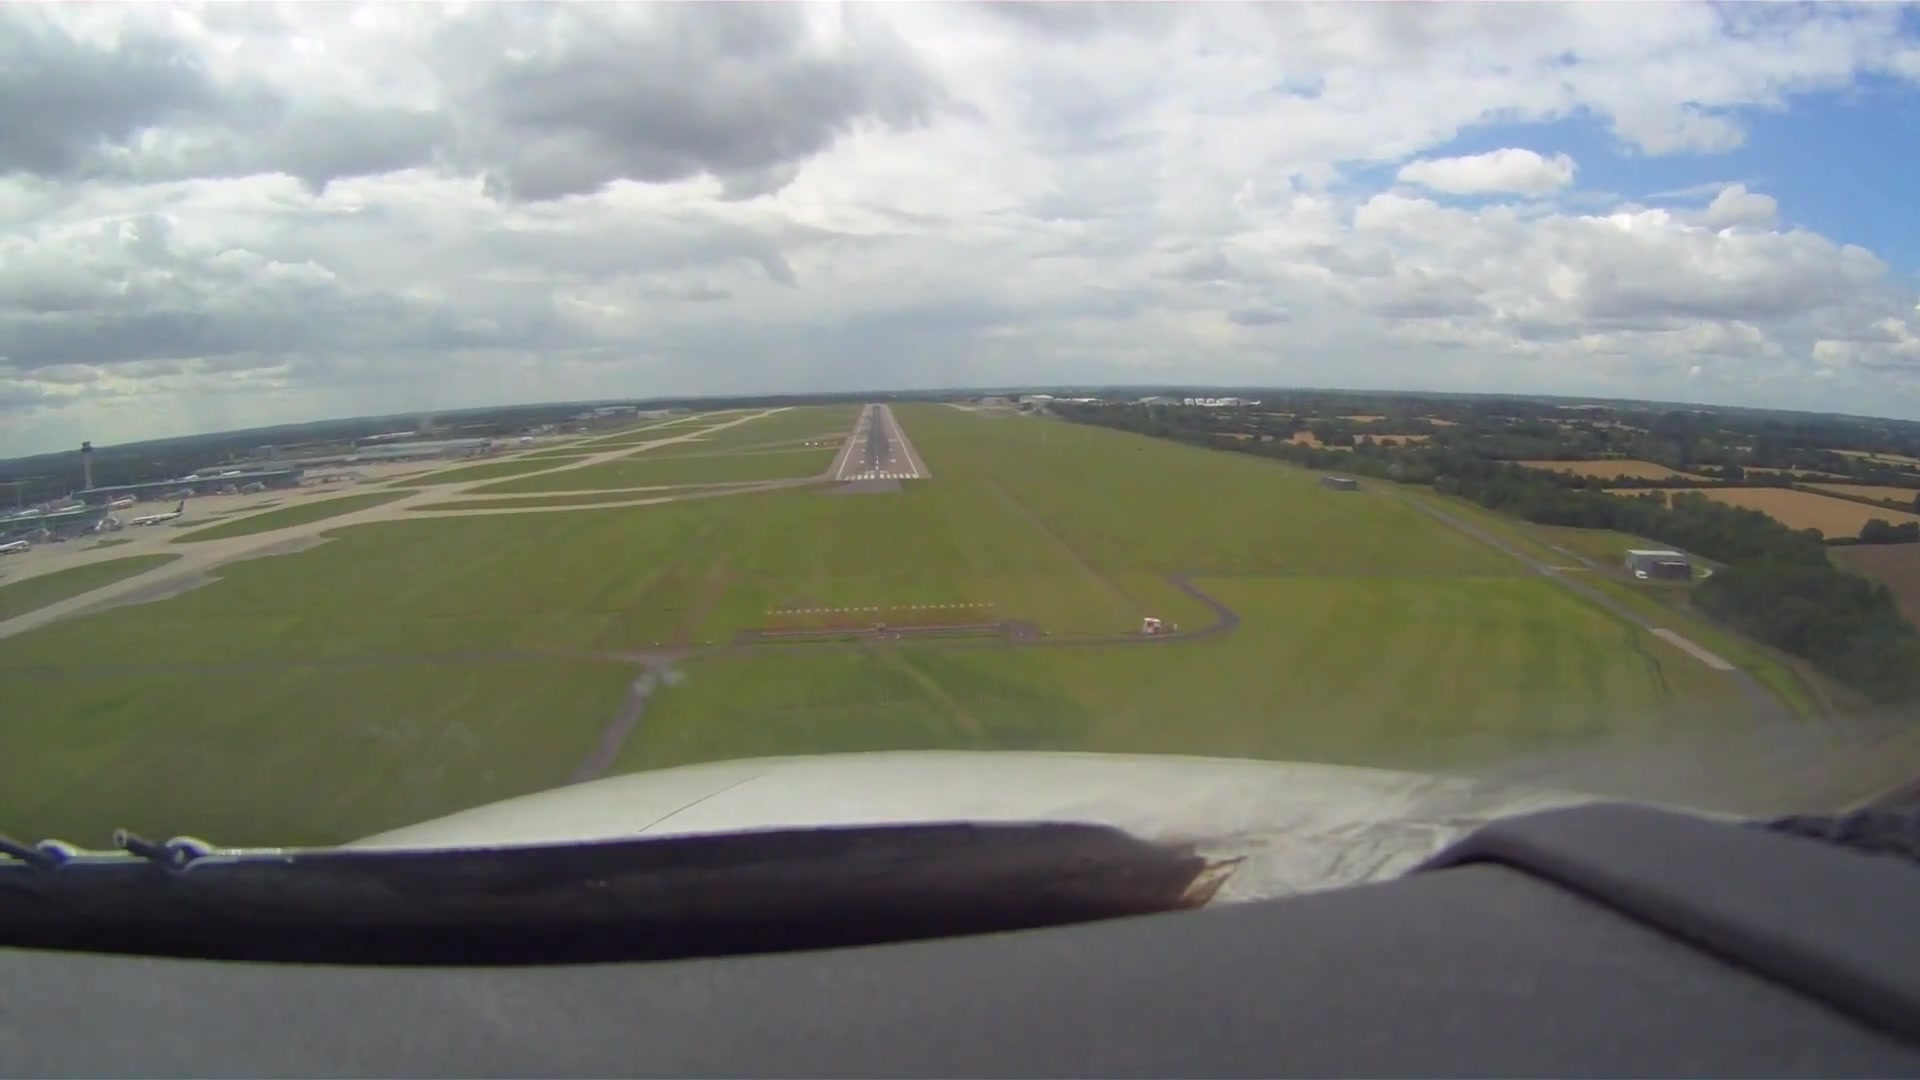entrance: (839, 472, 919, 483)
runway: (829, 400, 932, 485)
